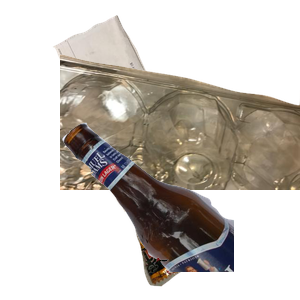glass: (60, 120, 300, 300)
paper: (51, 13, 230, 186)
plastic: (60, 52, 300, 232)
trash: (103, 147, 300, 300)
